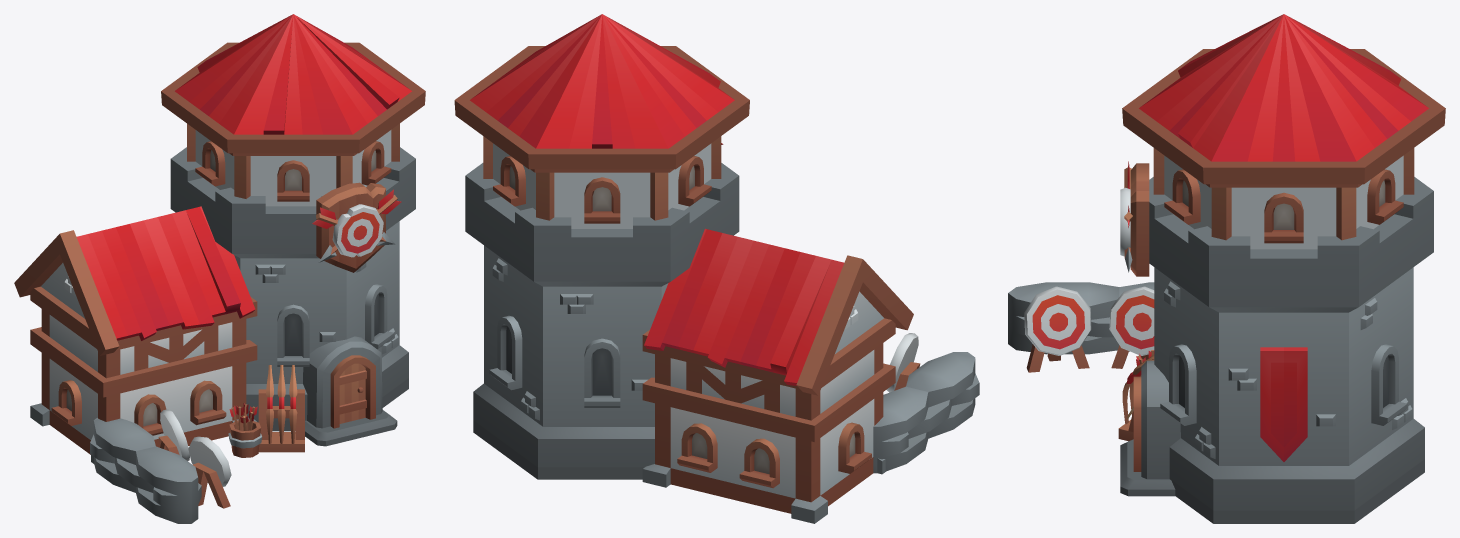
The model's file is building_archeryrange_red.gltf.
3 views of the same model, side by side, from view 1: azimuth 30°, elevation 25°; view 2: azimuth 150°, elevation 25°; view 3: azimuth 270°, elevation 25° (orthographic). The views are drawn at different scales.
Visible parts, largest first — view 1: building_archeryrange_red; view 2: building_archeryrange_red; view 3: building_archeryrange_red.
Part boxes in pixels (bbox=[...]): building_archeryrange_red: bbox=[14, 14, 425, 523]; building_archeryrange_red: bbox=[454, 14, 979, 523]; building_archeryrange_red: bbox=[1008, 14, 1445, 523].
Size of the model in its own units: 1.67 by 1.79 by 1.55.
Materials: 1 (1 with a texture image).
